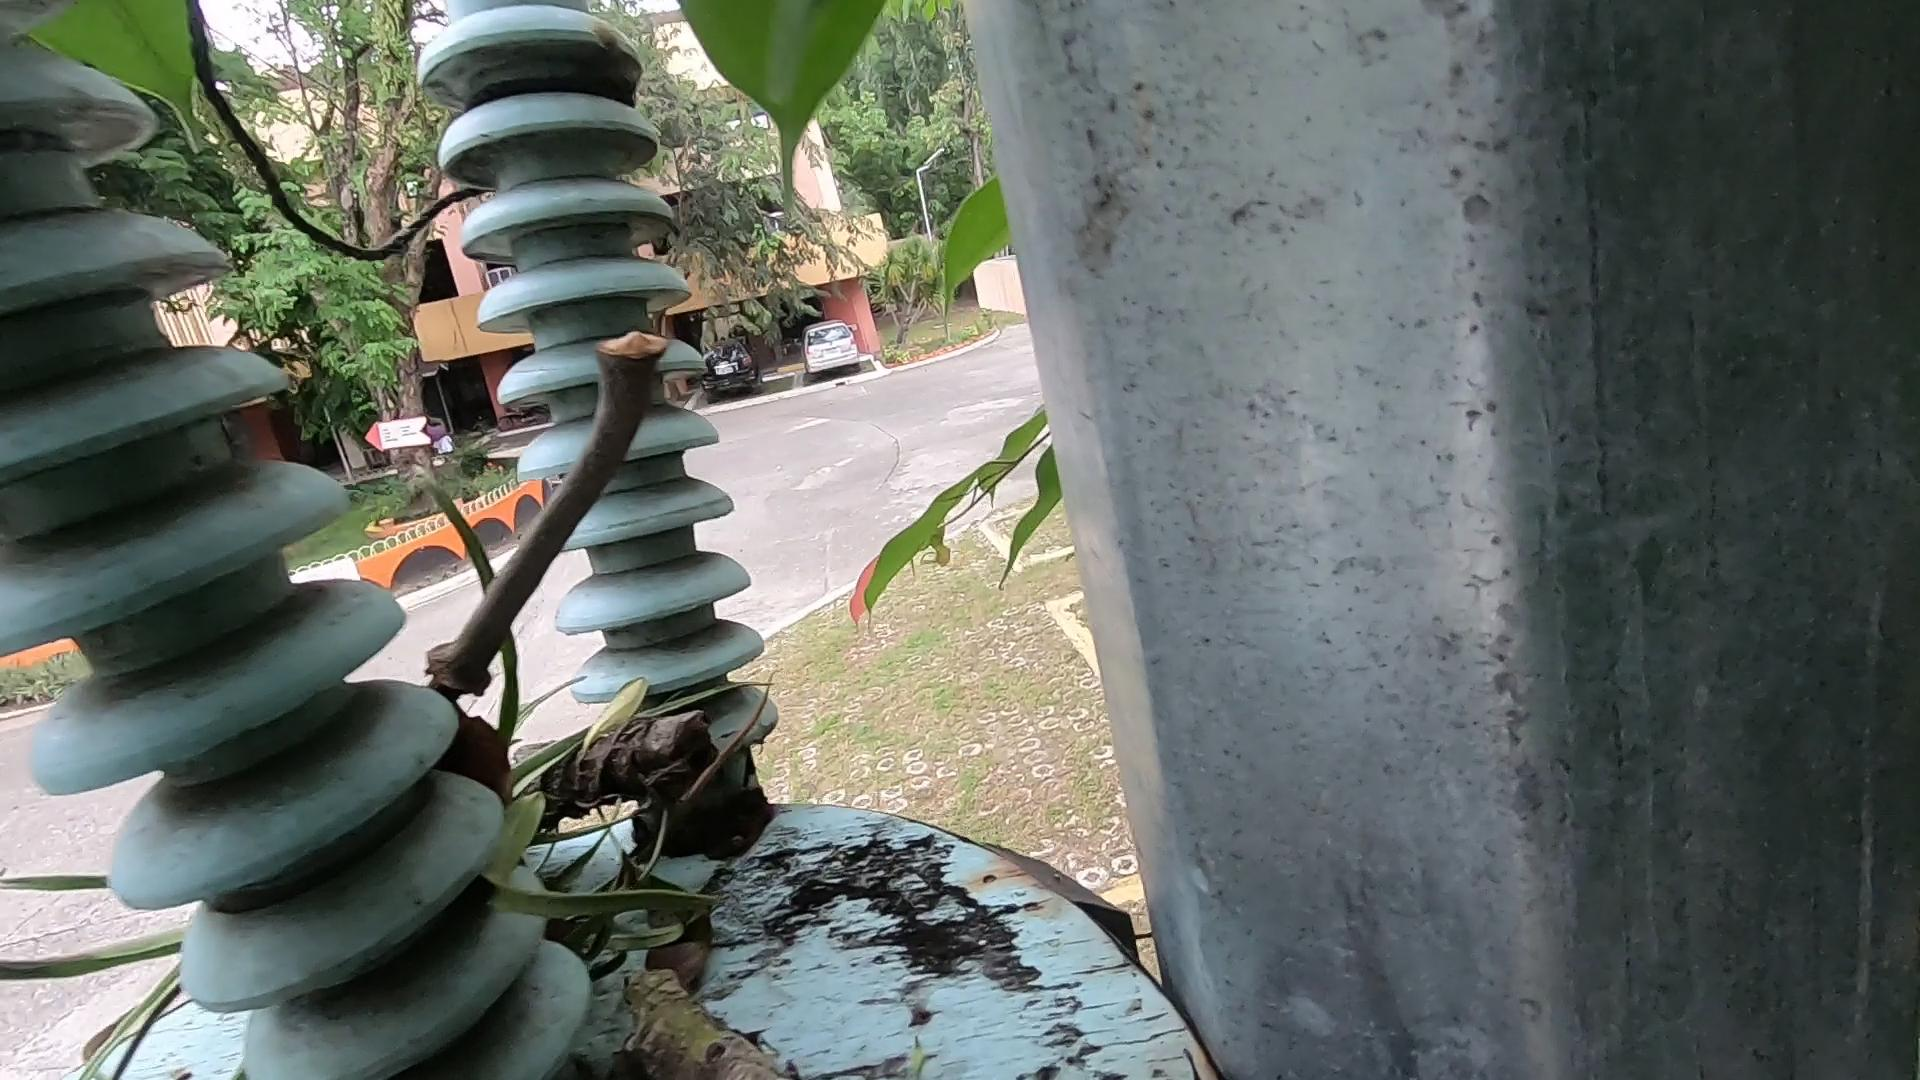branch with leaves: (363, 678, 899, 1080)
tree branch: (339, 287, 628, 878)
